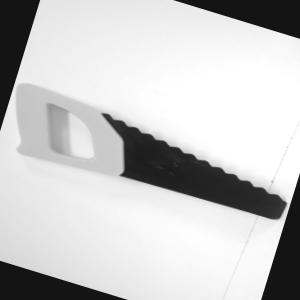serrote: (0, 78, 298, 233)
